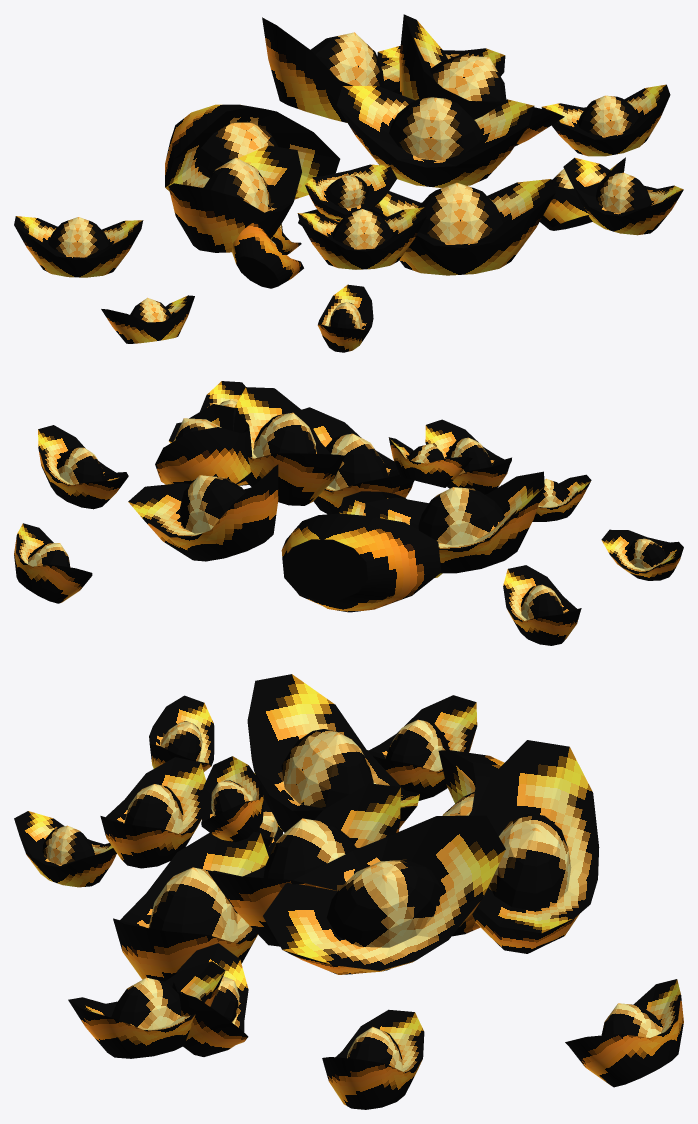
3 renders of one model, top to bottom at view 1: azimuth 30°, elevation 25°; view 2: azimuth 150°, elevation 25°; view 3: azimuth 270°, elevation 25°, orthographic. The views are drawn at different scales.
Parts seen in each view (by area): view 1: Cylinder009; view 2: Cylinder009; view 3: Cylinder009.
Boxes of the visible parts, x1,y1,x2,y2 form: Cylinder009: (14, 14, 683, 352); Cylinder009: (14, 381, 683, 645); Cylinder009: (14, 674, 683, 1109).
Bounding box in the file's own units: 67.28 × 16.64 × 48.43.
